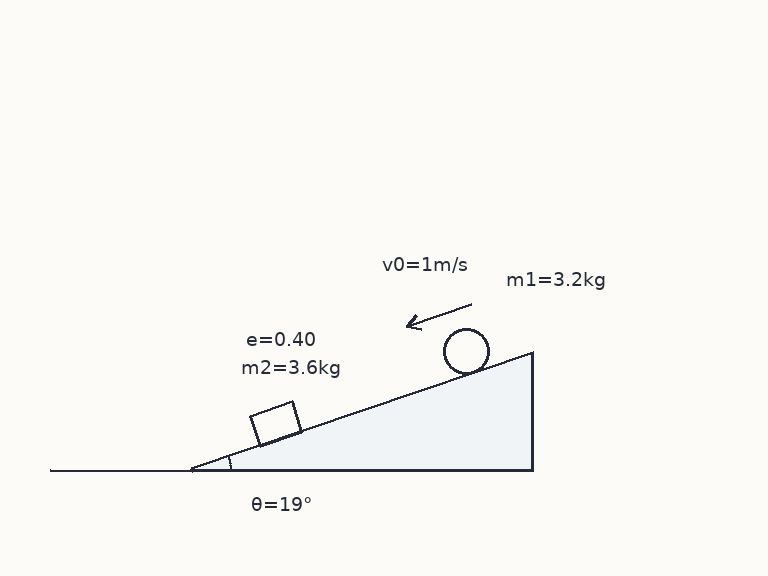ball: (441, 326, 491, 376)
block: (247, 399, 304, 448)
ramp: (189, 350, 534, 472)
